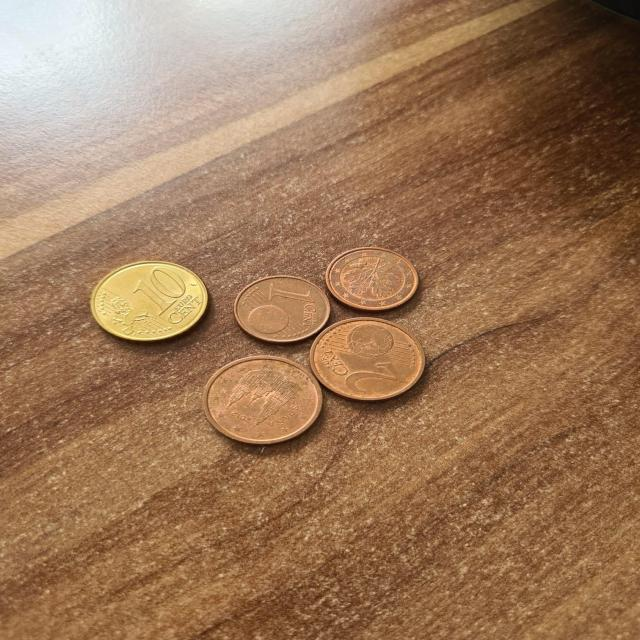10c: (90, 260, 210, 343)
1c: (235, 274, 332, 344), (326, 247, 420, 311)
2c: (203, 354, 321, 448), (308, 317, 427, 404)
